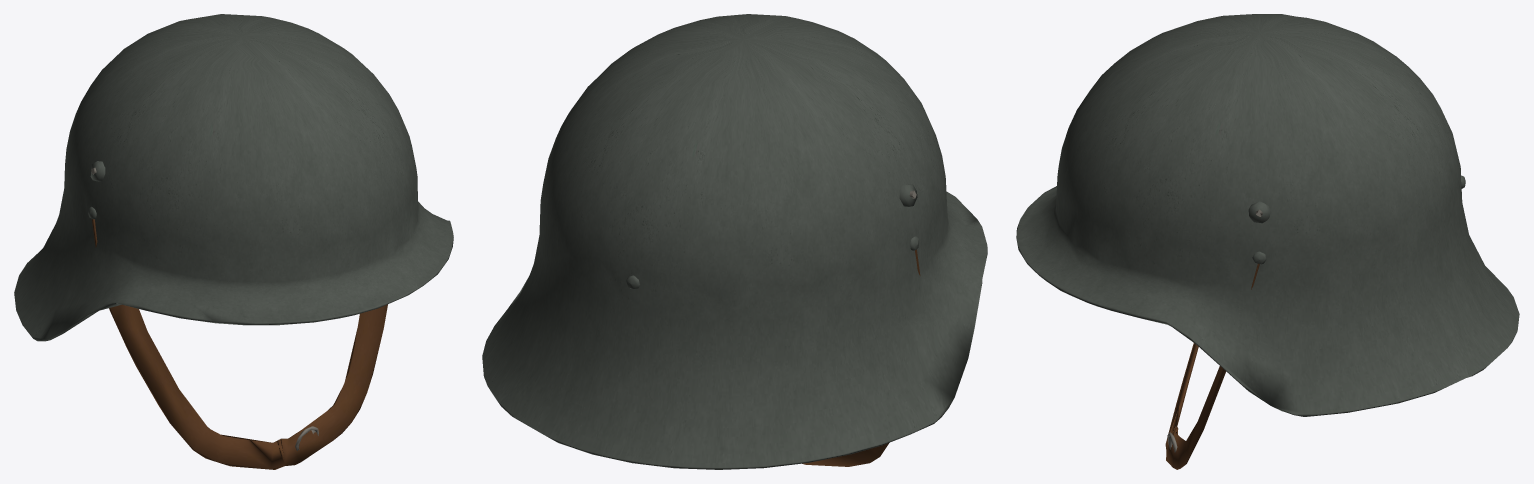
File: helmet_flared.glb
3 views of the same model, side by side, from view 1: azimuth 30°, elevation 25°; view 2: azimuth 150°, elevation 25°; view 3: azimuth 270°, elevation 25° (orthographic). The views are drawn at different scales.
Visible parts, largest first — view 1: helmet_flared_paint, helmet_flared_liner; view 2: helmet_flared_paint, helmet_flared_liner; view 3: helmet_flared_paint, helmet_flared_liner.
Part boxes in pixels (x1,y1,x2,y2): helmet_flared_paint: (14, 14, 453, 341); helmet_flared_liner: (92, 219, 387, 469); helmet_flared_paint: (482, 14, 987, 469); helmet_flared_liner: (802, 249, 920, 466); helmet_flared_paint: (1016, 14, 1519, 416); helmet_flared_liner: (1165, 263, 1259, 469).
Size of the model in its own units: 0.2645 by 0.2667 by 0.2892.
Materials: 4 (2 with a texture image).
